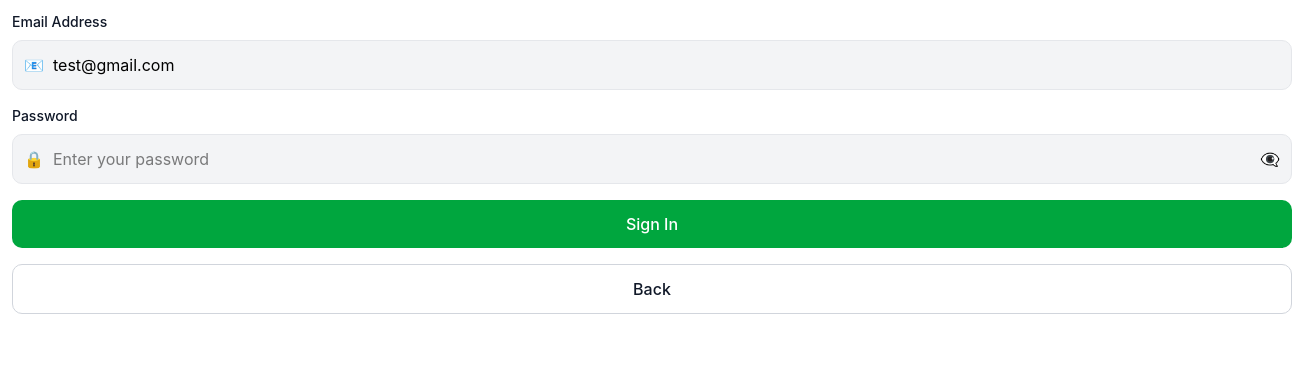
Test case: LoginForm › shows validation error when password is empty
Replace the text in the field labelled "Email Address" with "test@example.com" at (652, 65), box [12,40,1292,90]
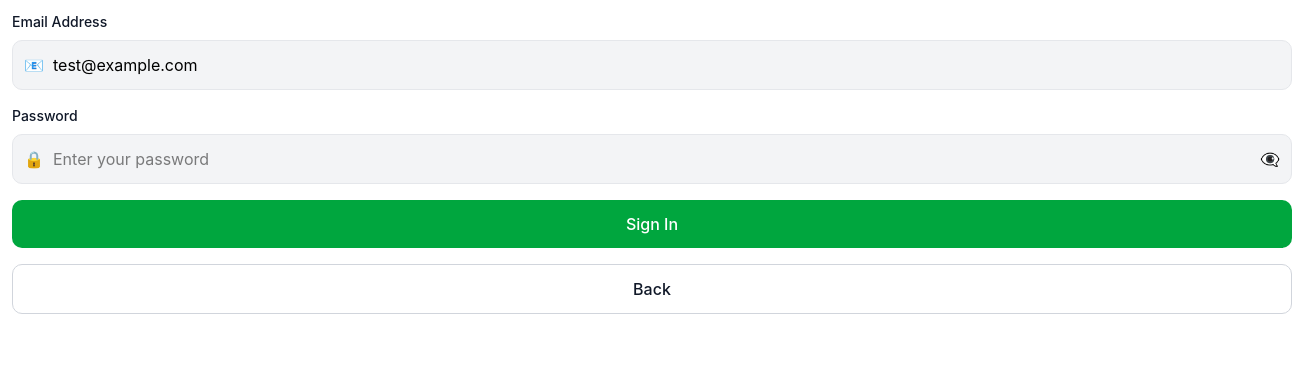
Click the button "Sign In" at (652, 224), box [12,200,1292,248]
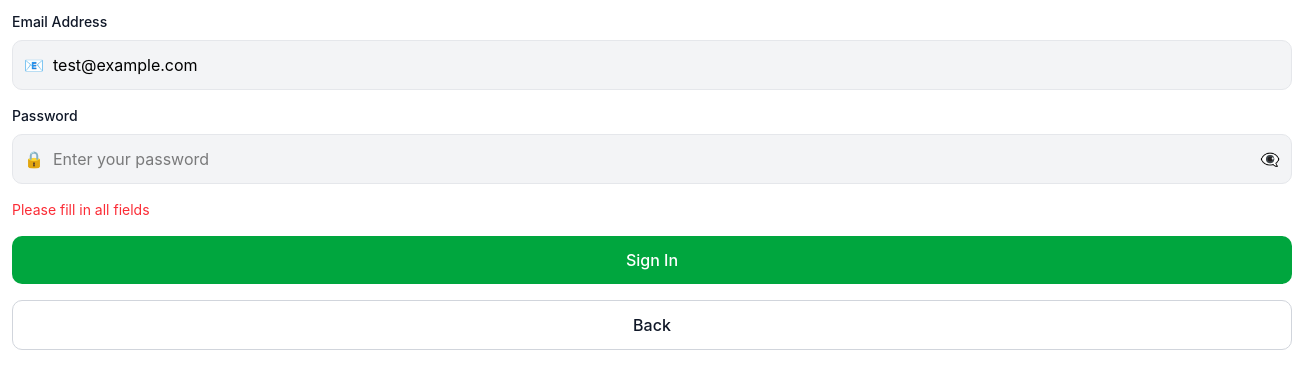
Check: the text "Please fill in all fields" is shown, box [12,201,150,218]
